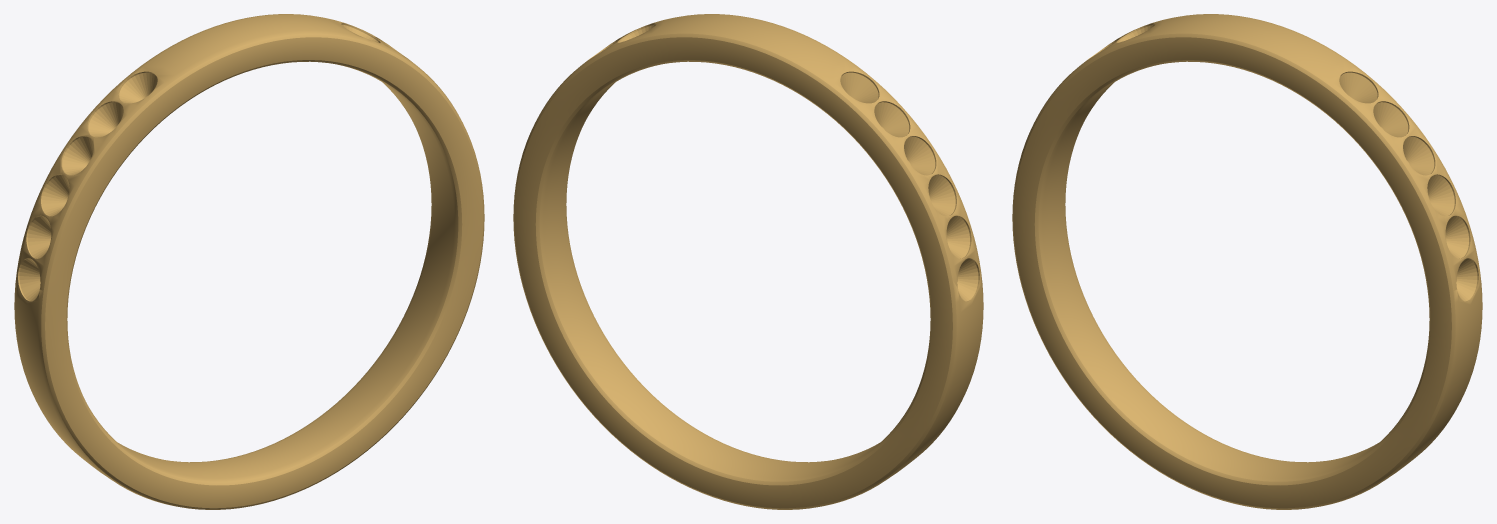
The model's file is soft-square-shared-prong.glb.
3 views of the same model, side by side, from view 1: azimuth 30°, elevation 25°; view 2: azimuth 150°, elevation 25°; view 3: azimuth 330°, elevation 25° (orthographic).
Visible parts, largest first — view 1: Band; view 2: Band; view 3: Band.
Part boxes in pixels (left/top/right/bottom): Band: left=14, top=14, right=484, bottom=509; Band: left=513, top=14, right=983, bottom=509; Band: left=1012, top=14, right=1482, bottom=509.
Size of the model in its own units: 19.6 by 19.6 by 2.3.
